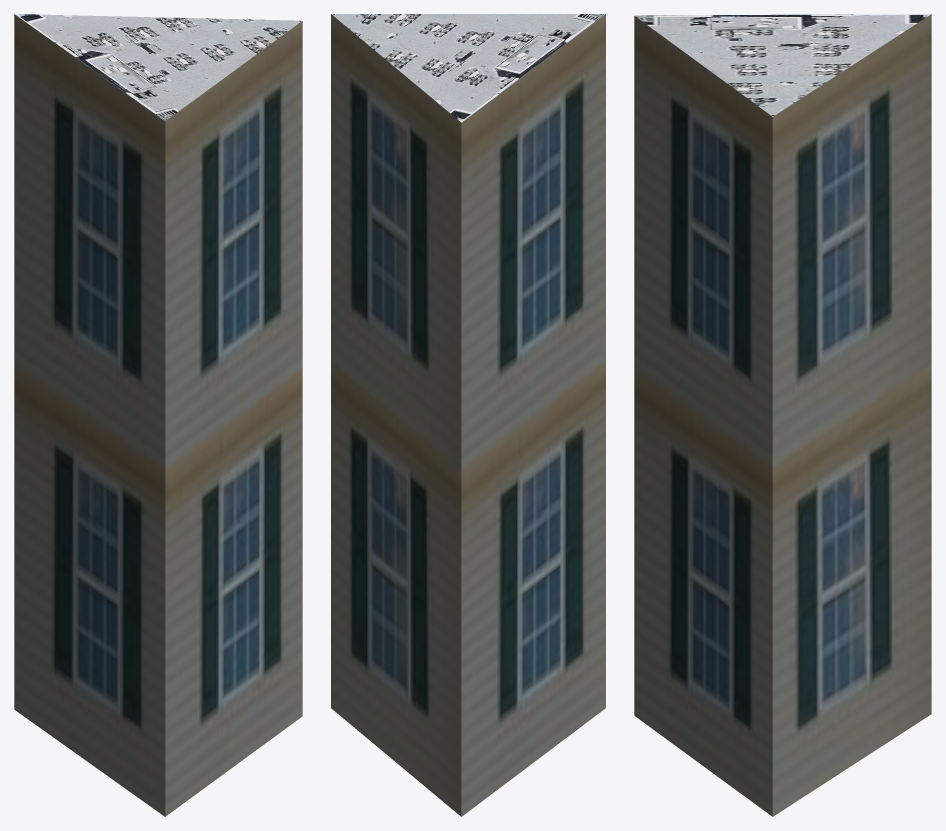
File: ResTex__3031.fbx
3 renders of one model, left to right at view 1: azimuth 30°, elevation 25°; view 2: azimuth 150°, elevation 25°; view 3: azimuth 270°, elevation 25°, orthographic.
Visible parts, largest first — view 1: CityEngineMaterial_7_m, CityEngineMaterial_m; view 2: CityEngineMaterial_7_m, CityEngineMaterial_m; view 3: CityEngineMaterial_7_m, CityEngineMaterial_m.
Part boxes in pixels (box(x1,y1,x2,y2)): CityEngineMaterial_7_m: box(14, 14, 302, 816); CityEngineMaterial_m: box(14, 14, 302, 121); CityEngineMaterial_7_m: box(331, 14, 605, 816); CityEngineMaterial_m: box(331, 14, 605, 122); CityEngineMaterial_7_m: box(634, 14, 931, 816); CityEngineMaterial_m: box(635, 14, 930, 116).
Size of the model in its own units: 1.89 by 6 by 2.31.
Materials: 2 (2 with a texture image).
